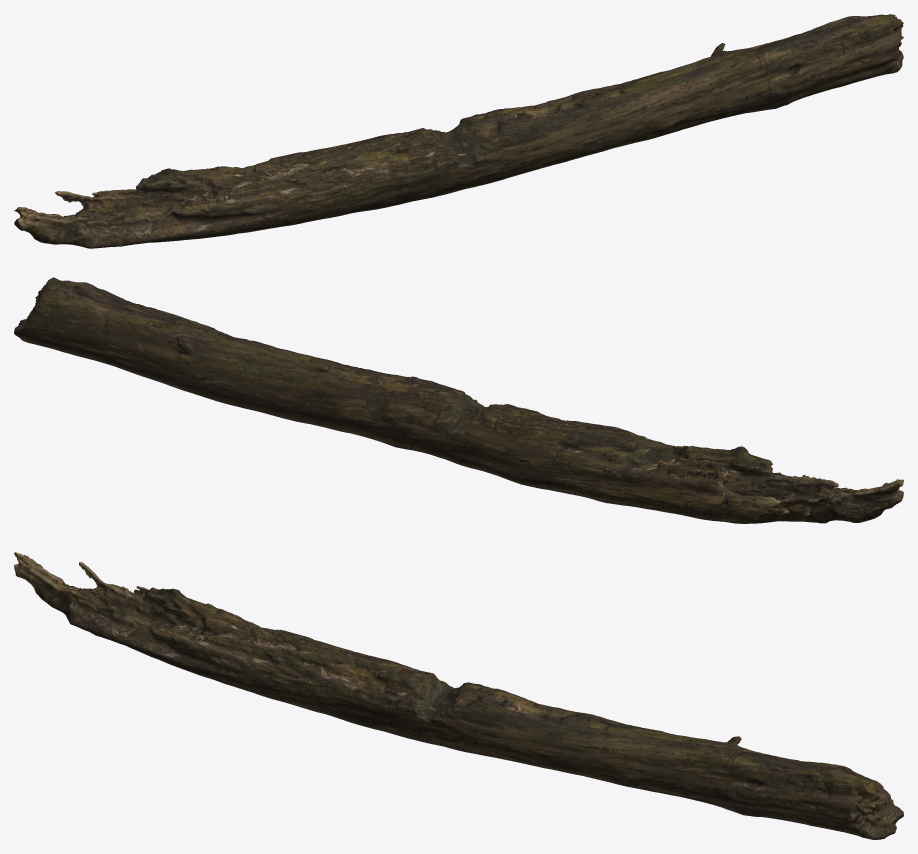
Rendered from prop_tree_dead_a.glb.
3 renders of one model, top to bottom at view 1: azimuth 30°, elevation 25°; view 2: azimuth 150°, elevation 25°; view 3: azimuth 330°, elevation 25°, orthographic.
Parts seen in each view (by area): view 1: dead_tree_trunk; view 2: dead_tree_trunk; view 3: dead_tree_trunk.
Part boxes in pixels (x1,y1,x2,y2): dead_tree_trunk: [14, 14, 903, 248]; dead_tree_trunk: [14, 277, 903, 523]; dead_tree_trunk: [14, 552, 903, 839].
Size of the model in its own units: 3.05 by 0.2901 by 0.2772.
Materials: 1 (1 with a texture image).
